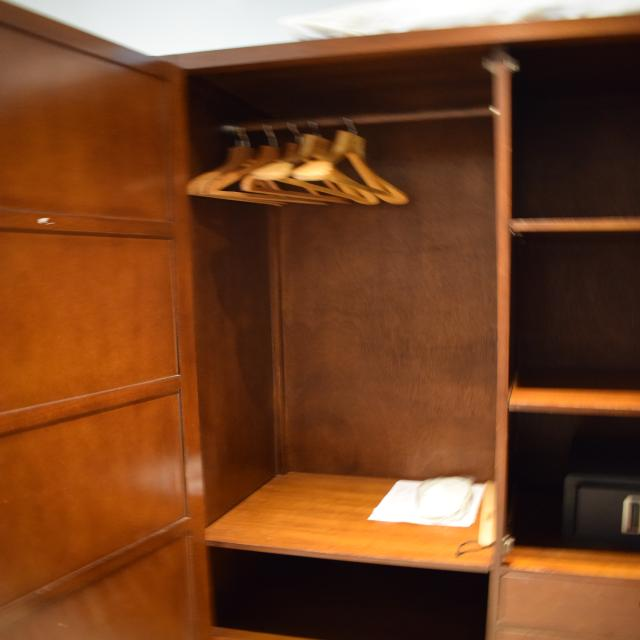mess: (270, 442, 588, 636)
